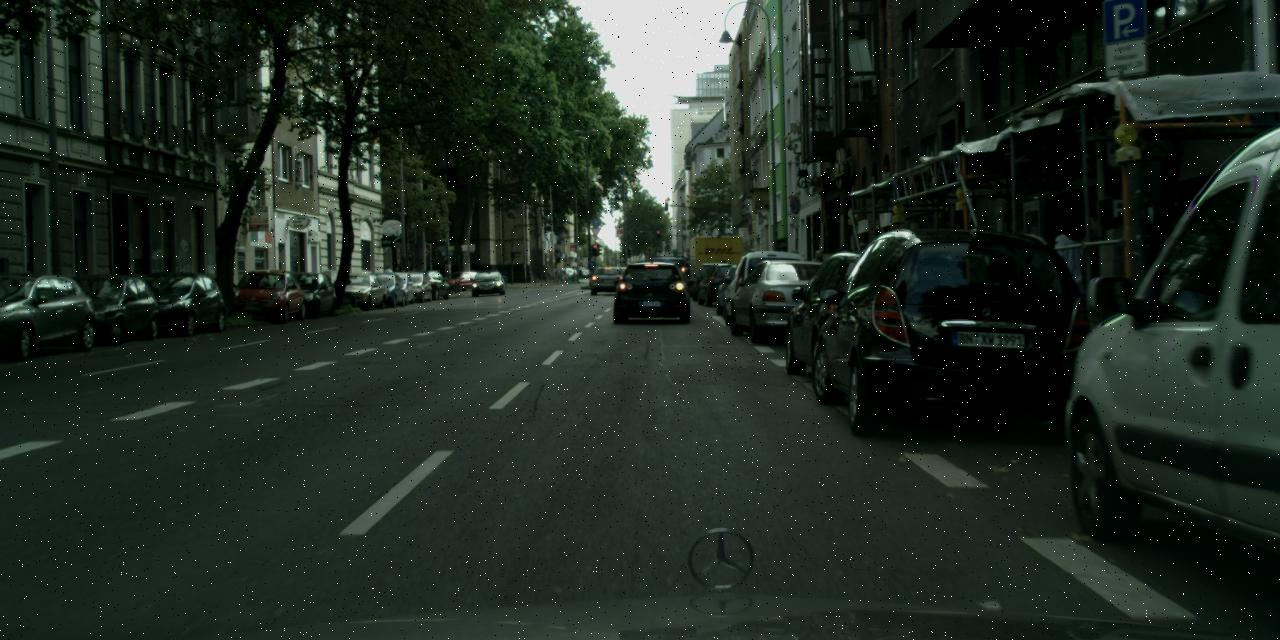ped: (1072, 212, 1134, 364), (807, 249, 828, 302), (384, 265, 393, 289)
